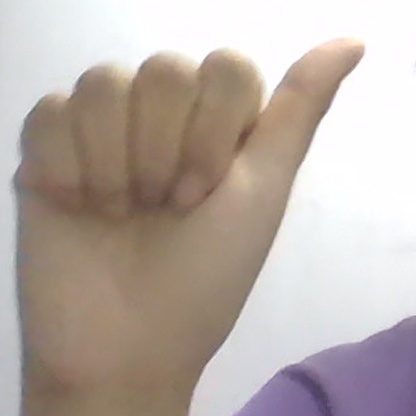A: (13, 38, 364, 385)
